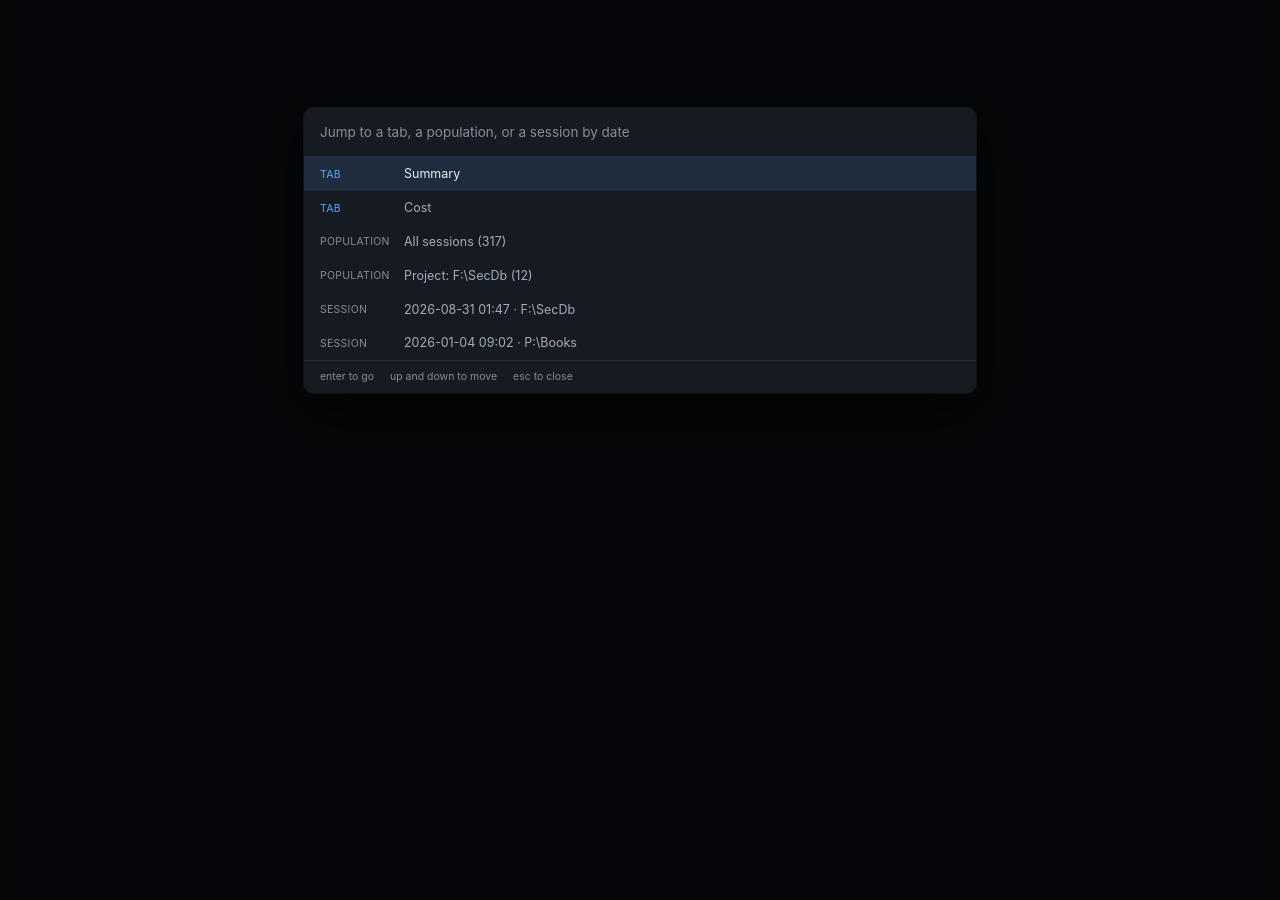
Test: the palette › says so when nothing matches instead of showing an empty box
Type "zzzz" into the field. click: (640, 132)
box: [304,108,976,156]
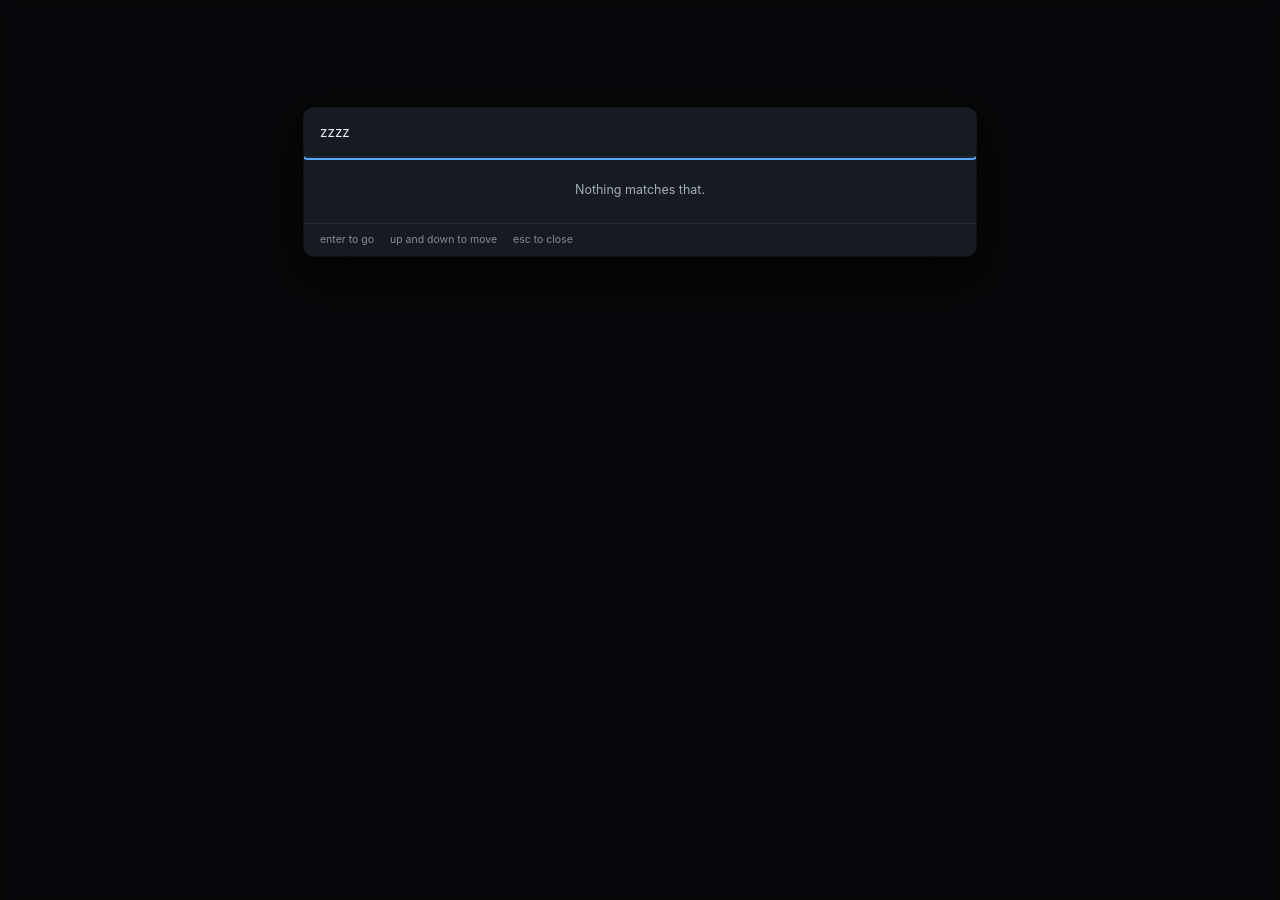
Expected: the text "Nothing matches that." is shown, [575,182,705,197]
